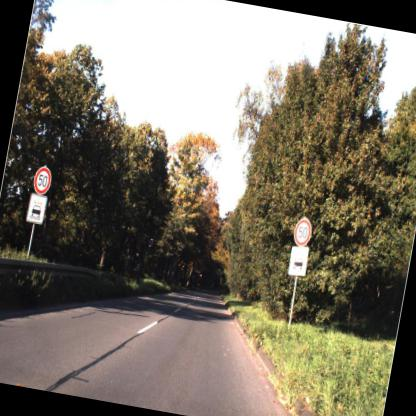prohibitory: (288, 211, 316, 251), (30, 160, 58, 198)
